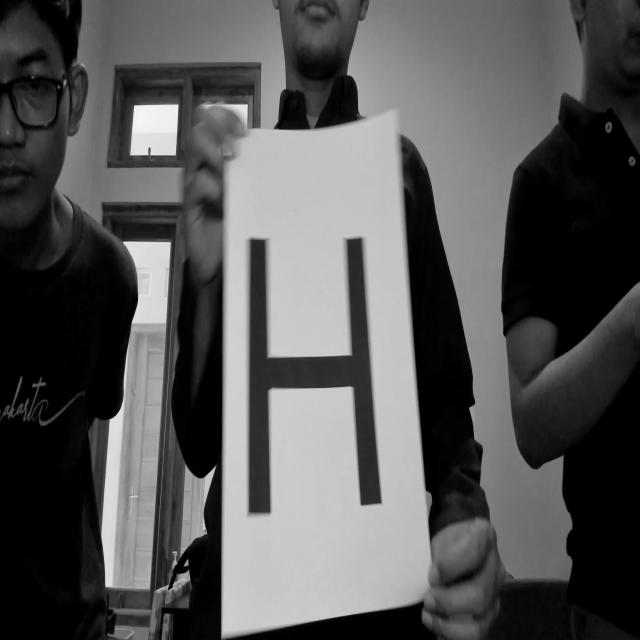h: (235, 213, 405, 552)
